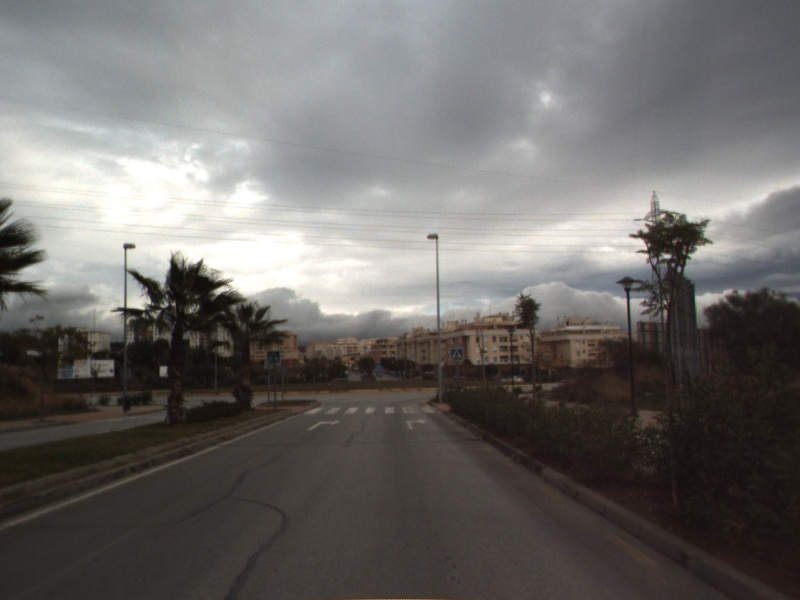RIGHT: (305, 418, 341, 432), (403, 416, 429, 432)
